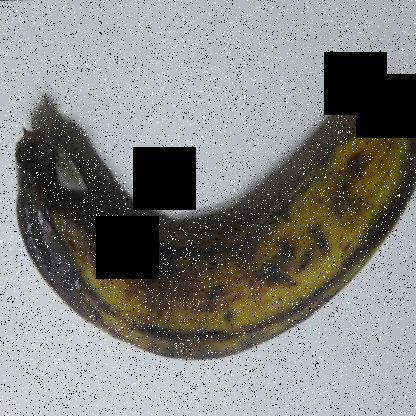overripe: (5, 28, 415, 400)
rotten: (7, 114, 113, 300)
